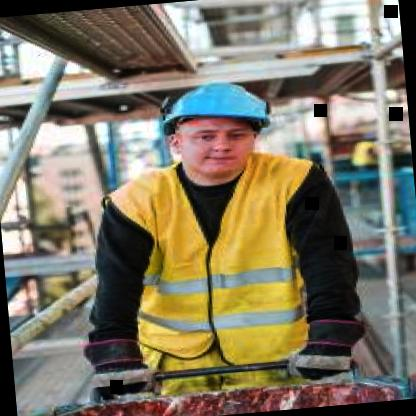helmet: (149, 65, 288, 186)
